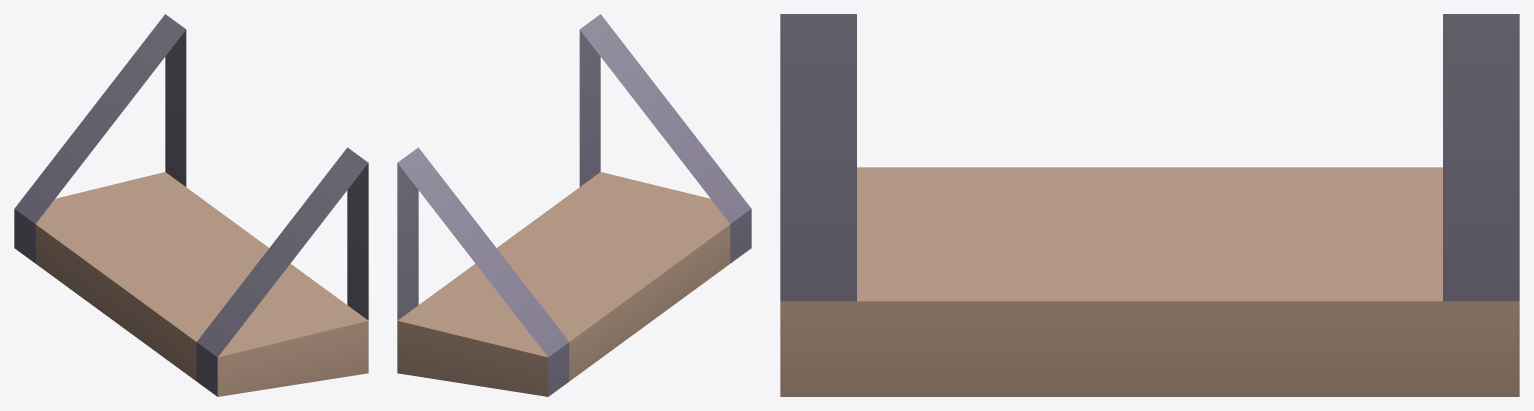
File: shelf-hanging-short (%wall) (%thumbnail).glb
3 views of the same model, side by side, from view 1: azimuth 30°, elevation 25°; view 2: azimuth 150°, elevation 25°; view 3: azimuth 270°, elevation 25° (orthographic). The views are drawn at different scales.
Parts seen in each view (by area): view 1: shelf-hanging-short (%wall) (%thumbnail); view 2: shelf-hanging-short (%wall) (%thumbnail); view 3: shelf-hanging-short (%wall) (%thumbnail).
Boxes of the visible parts, bbox=[...] form: shelf-hanging-short (%wall) (%thumbnail): bbox=[14, 14, 368, 396]; shelf-hanging-short (%wall) (%thumbnail): bbox=[397, 14, 751, 396]; shelf-hanging-short (%wall) (%thumbnail): bbox=[780, 14, 1519, 396].
Bounding box in the file's own units: 0.3 × 0.4 × 0.7.
